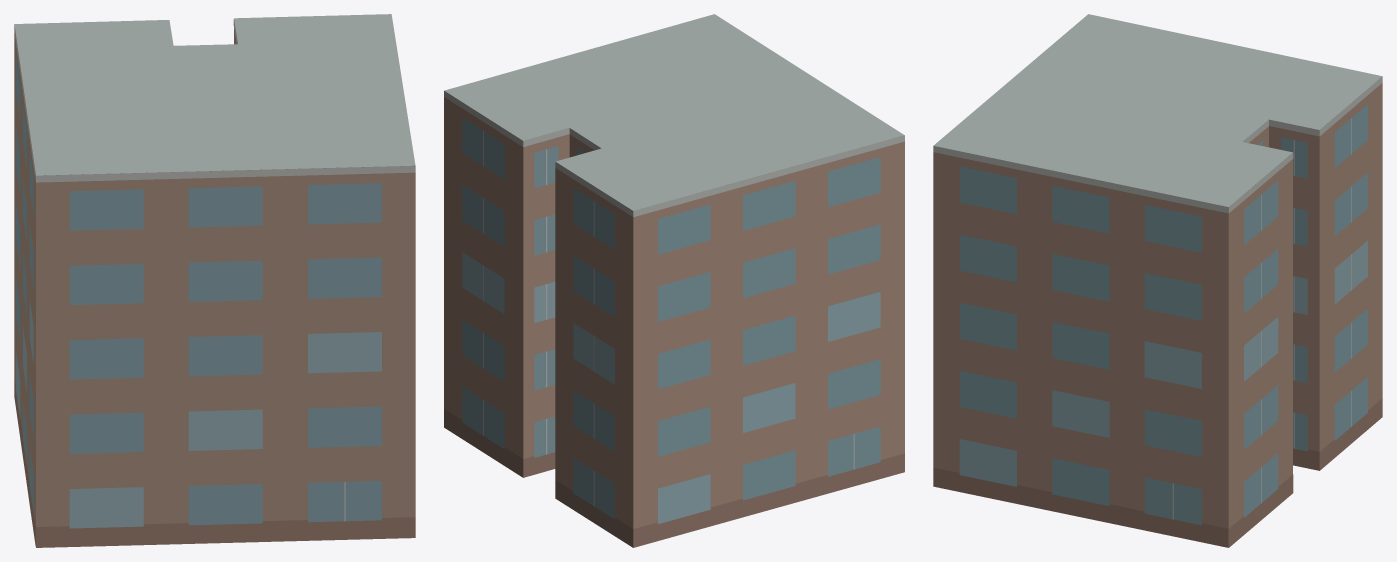
Rendered from survey-upis-32489786.glb.
The picture shows the model from 3 angles, left to right: view 1: azimuth 30°, elevation 25°; view 2: azimuth 150°, elevation 25°; view 3: azimuth 270°, elevation 25°; orthographic projection. The views are drawn at different scales.
Visible parts, largest first — view 1: survey-upis-32489786.tmp; view 2: survey-upis-32489786.tmp; view 3: survey-upis-32489786.tmp.
Part boxes in pixels (bbox=[...]): survey-upis-32489786.tmp: bbox=[14, 14, 415, 547]; survey-upis-32489786.tmp: bbox=[444, 14, 904, 547]; survey-upis-32489786.tmp: bbox=[933, 14, 1382, 547].
Bounding box in the file's own units: 15.93 × 13.1 × 15.67.
